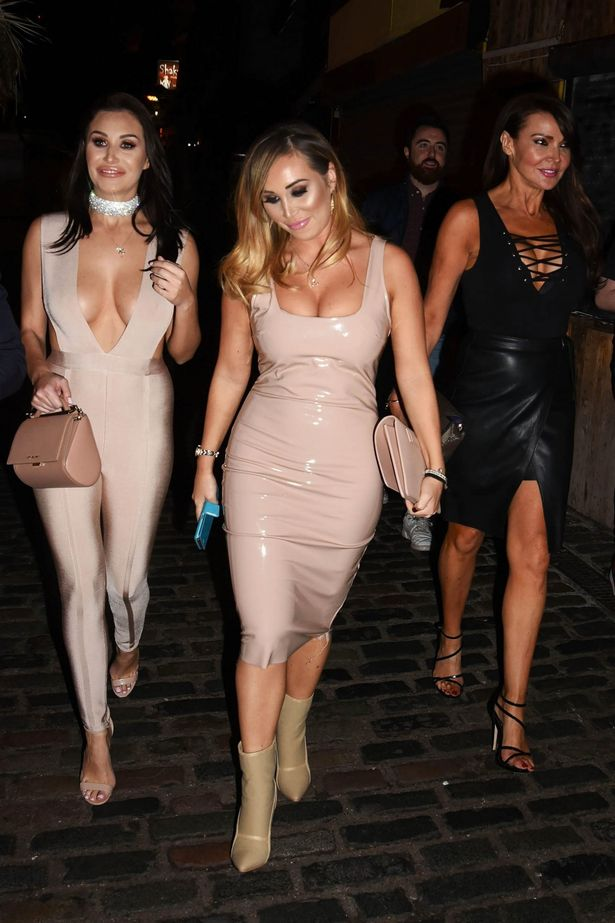Person: (183, 117, 457, 891), (13, 76, 201, 835), (400, 107, 589, 794), (375, 98, 463, 279)
